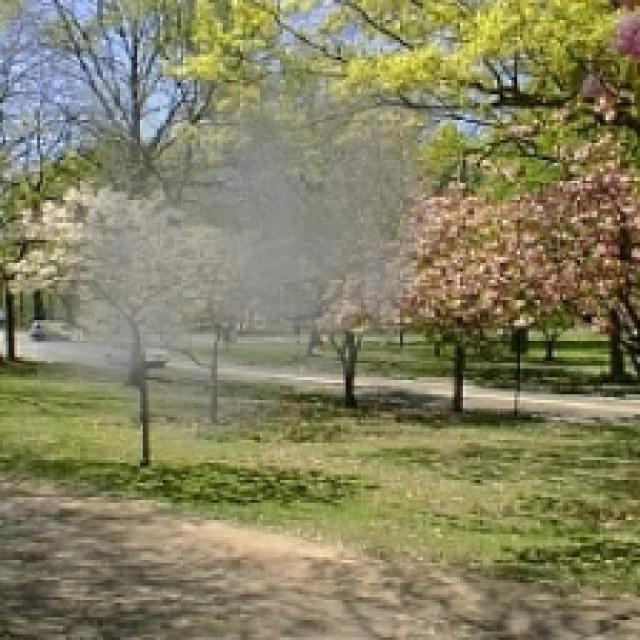smoke: (37, 60, 443, 471)
